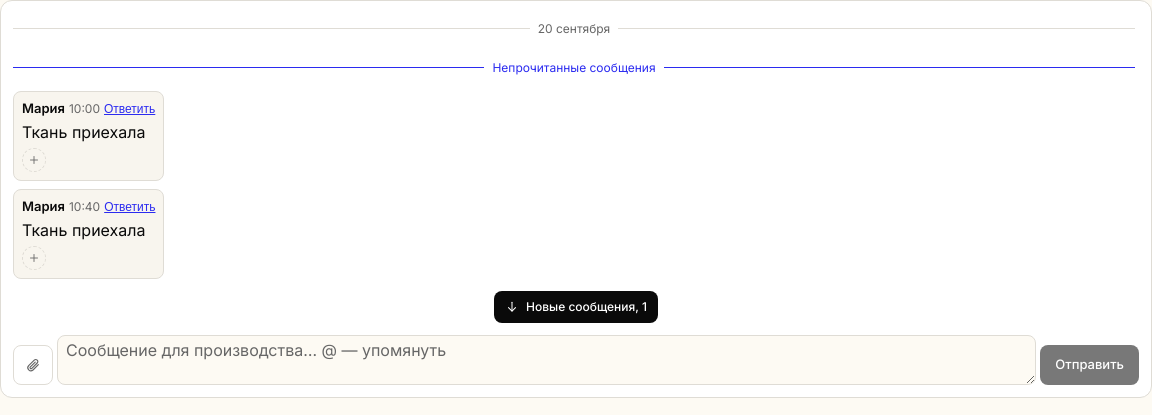
Scenario: индикатор новых сообщений ниже › переход вниз гасит индикатор
The width and height of the screenshot is (1152, 415).
Step 1. Click the button "Новые сообщения, 1" → (576, 307), box [494,291,658,323]
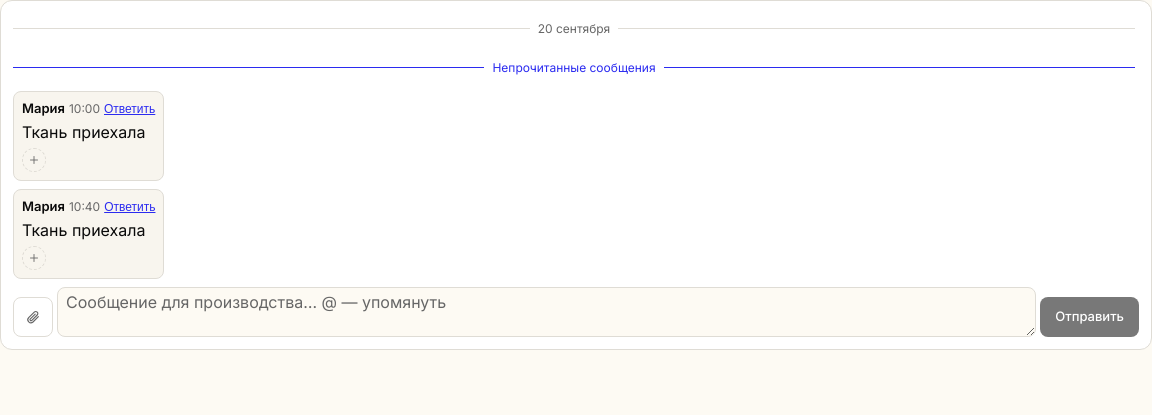
Expected: the button "Новые сообщения" is gone
